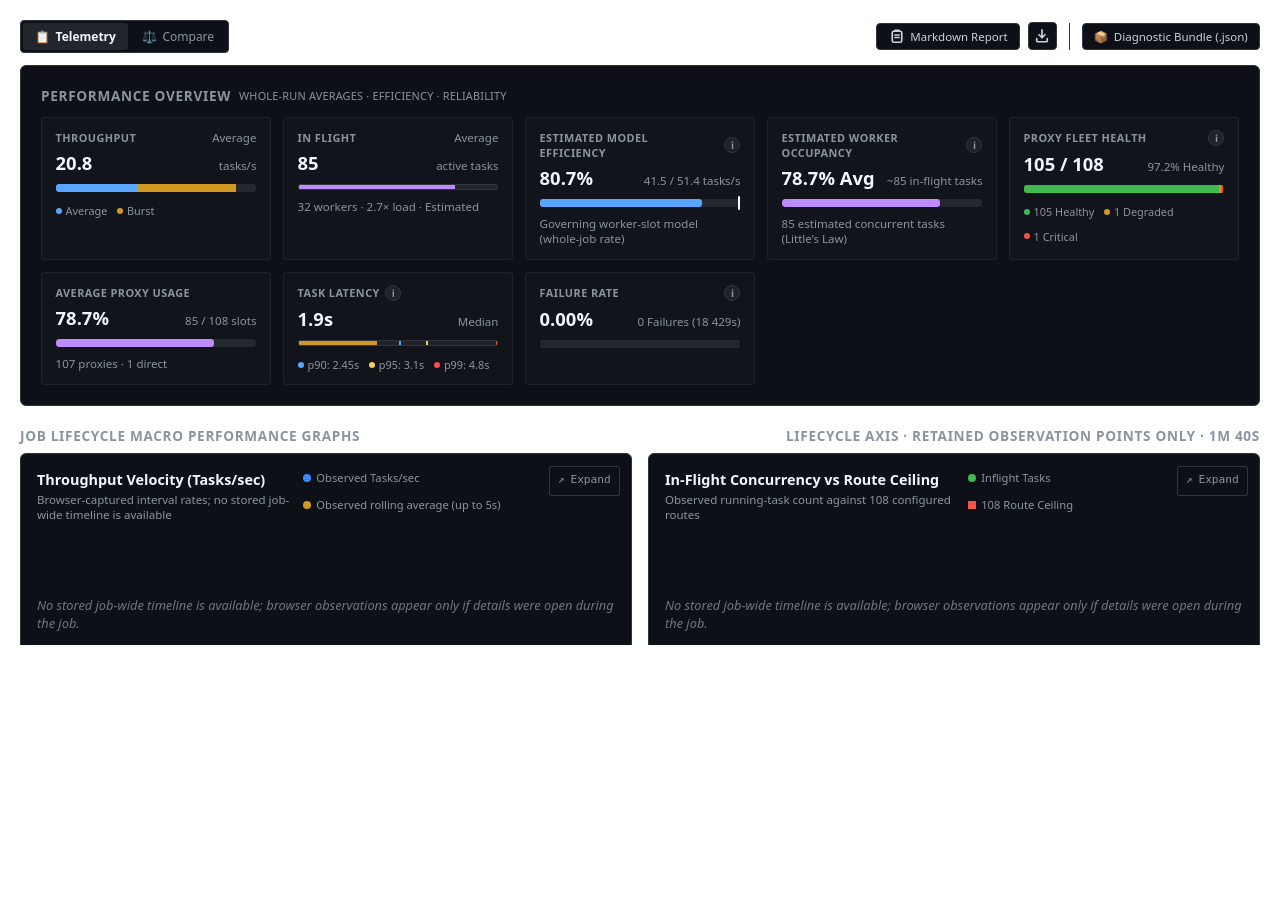
Scenario: JobDiagnosticsReport › excludes running jobs from the baseline selector and comparison
What coordinates should you click on to do the following:
click the button "⚖️ Compare"
I would click on:
 (178, 36)
Its box is [130,23,226,50].
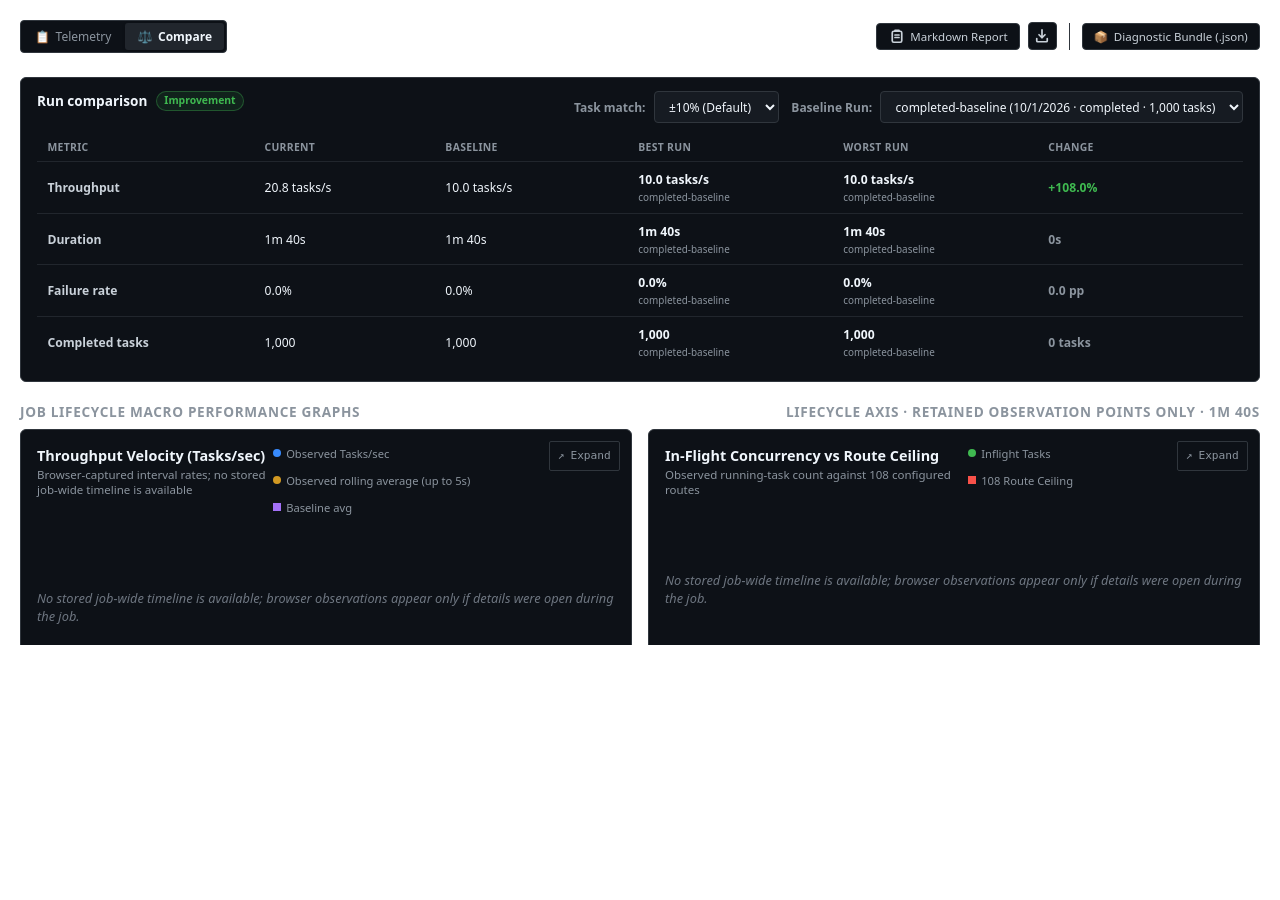
Expected: the dropdown named "Select baseline historical run for comparison" shows "completed-baseline (10/1/2026 · completed · 1,000 tasks)", [880,91,1243,123]
